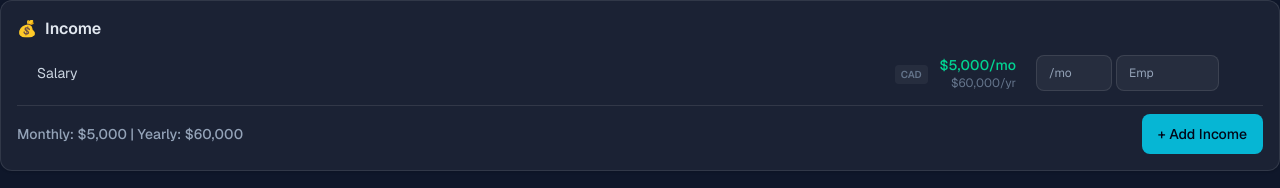
Test case: IncomeEntry - CurrencyBadge › clicking badge toggles to foreign currency
Click the button with test id "currency-badge". click: (911, 74)
box: [895,65,928,84]
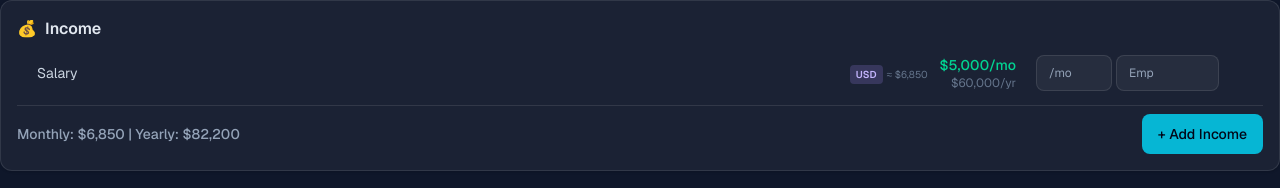
Expected: the button with test id "currency-badge" reads "USD", [850,65,883,84]
